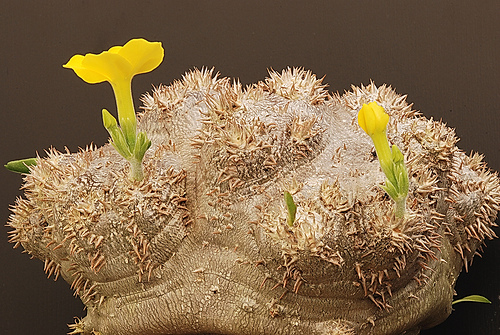Pachypodium brevicaule: (26, 72, 494, 310)
